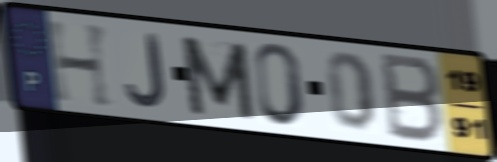0: (252, 40, 307, 129), (324, 49, 379, 136)
B: (380, 49, 446, 147)
H: (43, 18, 116, 111)
J: (123, 32, 169, 111)
M: (177, 33, 259, 123)
